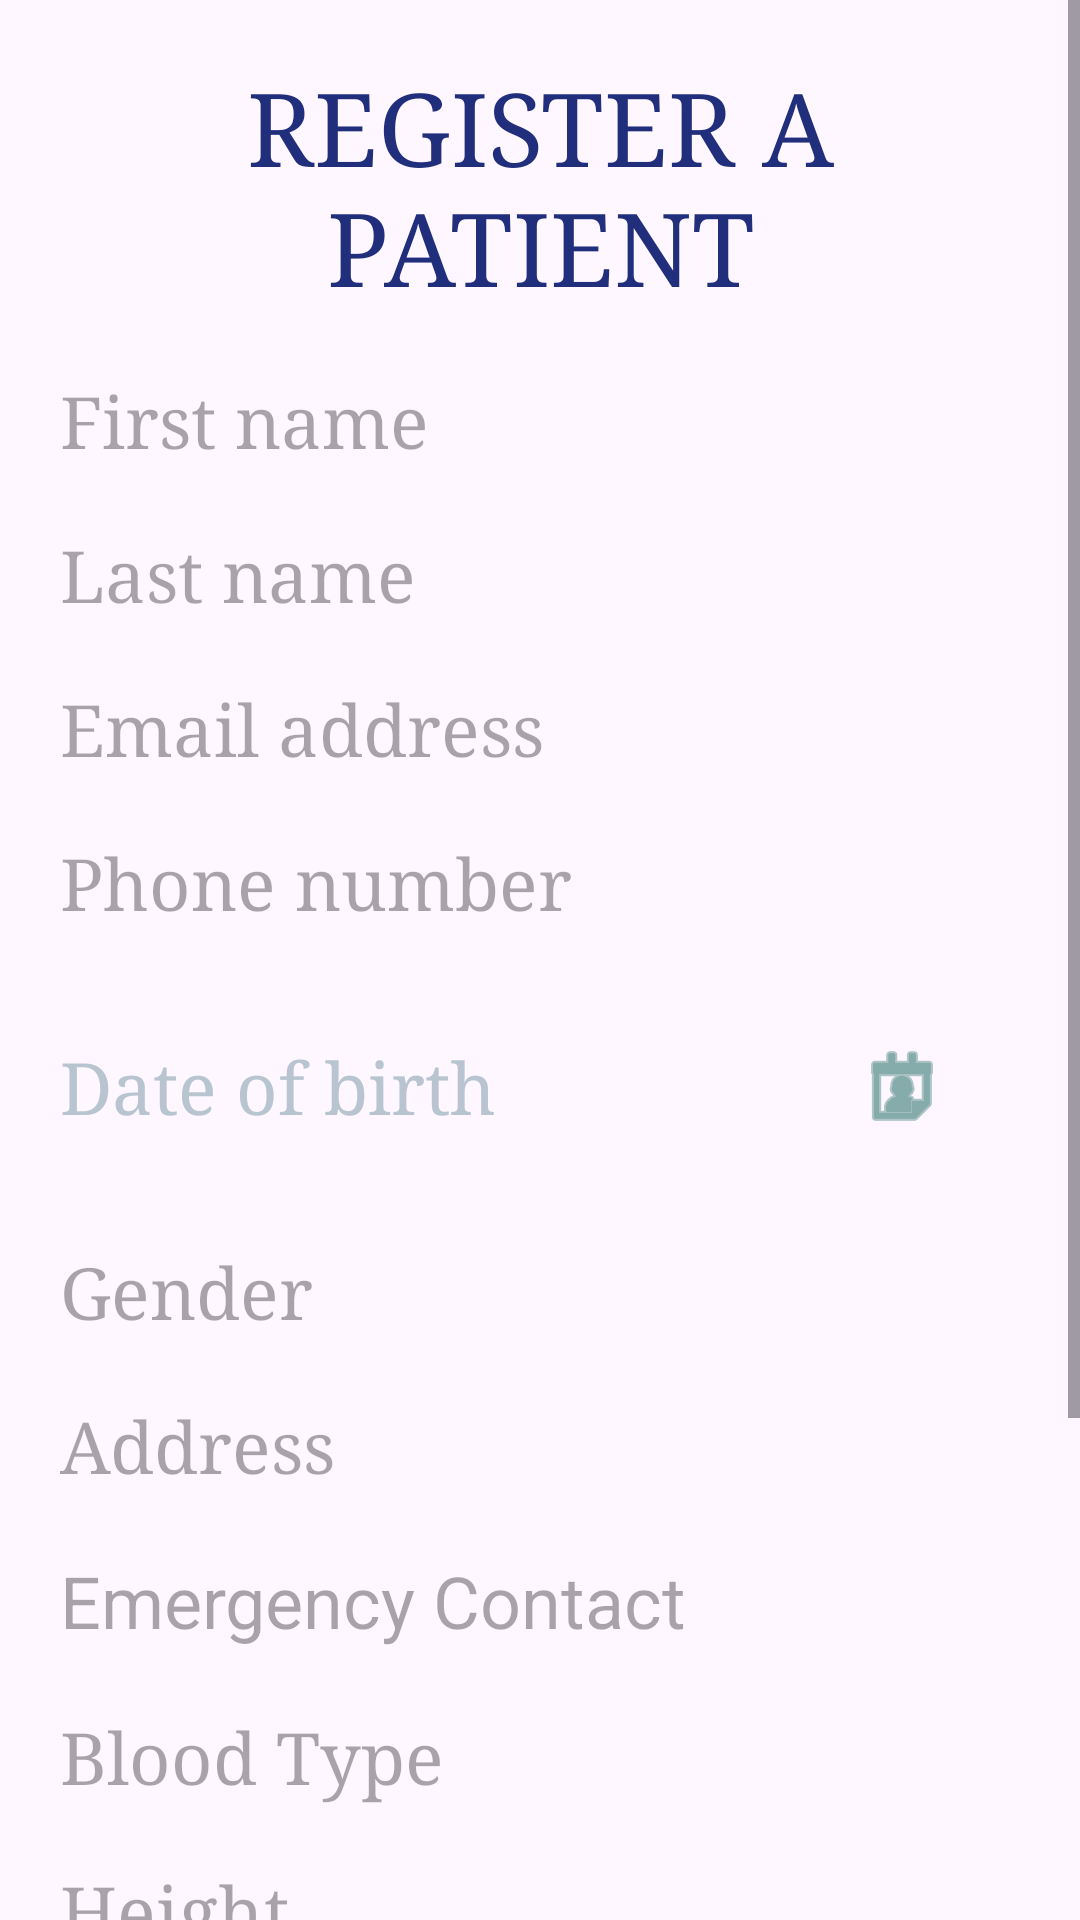

Named icons in this screenshot (1080 x 1920) and their centers, [x,y]:
Pick a date: [902,1086]
